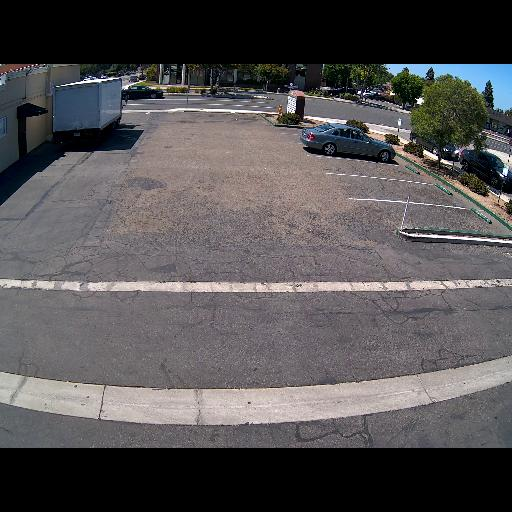car: (50, 75, 128, 143), (298, 122, 397, 164), (457, 147, 511, 192), (408, 122, 460, 162), (119, 84, 164, 100), (328, 86, 353, 98), (363, 91, 384, 101), (128, 74, 139, 82)
